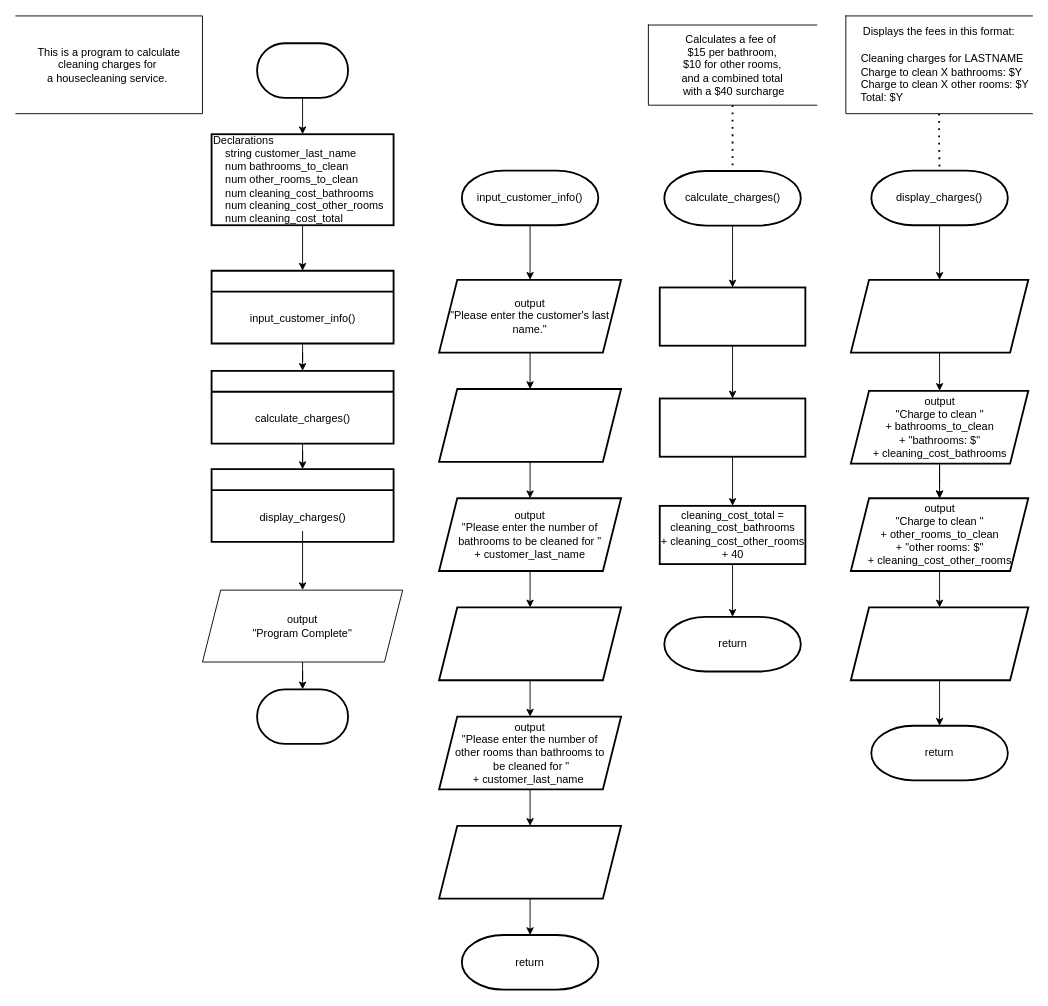
Image size: 1048x1006. Some labels were removed from this diagram. The box of each missing label's shape, as (x1, y1, x2, y2) in pixels:
cleaning_cost_bathrooms = bathrooms_to_clean * 15: (658, 286, 806, 346)
cleaning_cost_other_rooms = other_rooms_to_clean * 10: (658, 397, 806, 457)
input bathrooms_to_clean: (438, 606, 622, 681)
input customer_last_name: (438, 388, 622, 462)
input other_rooms_to_clean: (438, 824, 622, 899)
output "Cleaning charges for " + customer_last_name: (849, 278, 1029, 353)
output "Total: $" + cleaning_cost_total: (849, 606, 1029, 681)
start: (256, 42, 349, 98)
stop: (256, 688, 349, 744)
